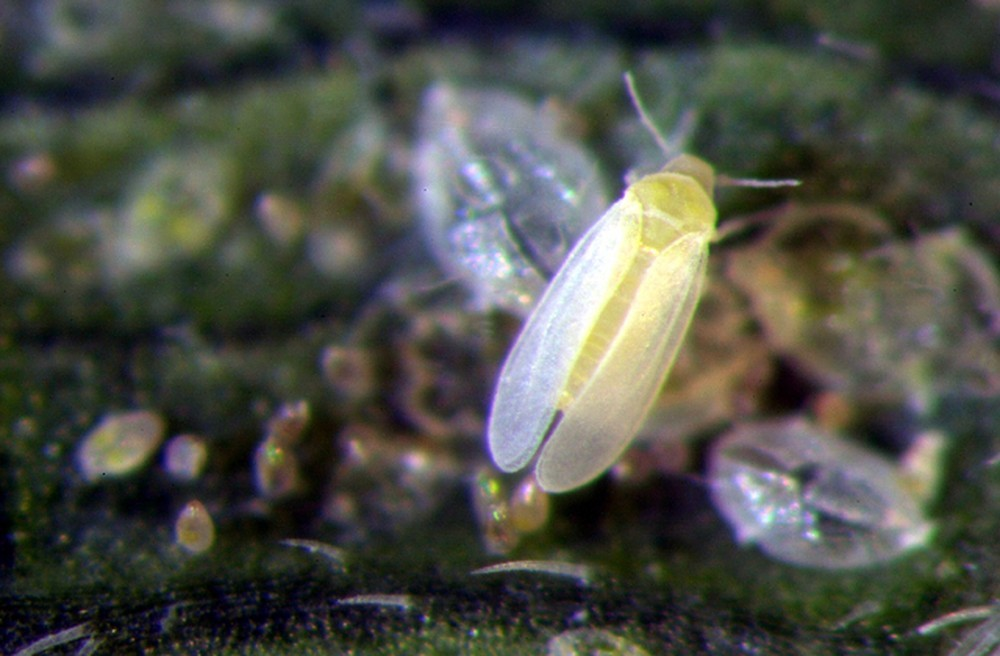Mosca Blanca: (486, 65, 792, 526)
